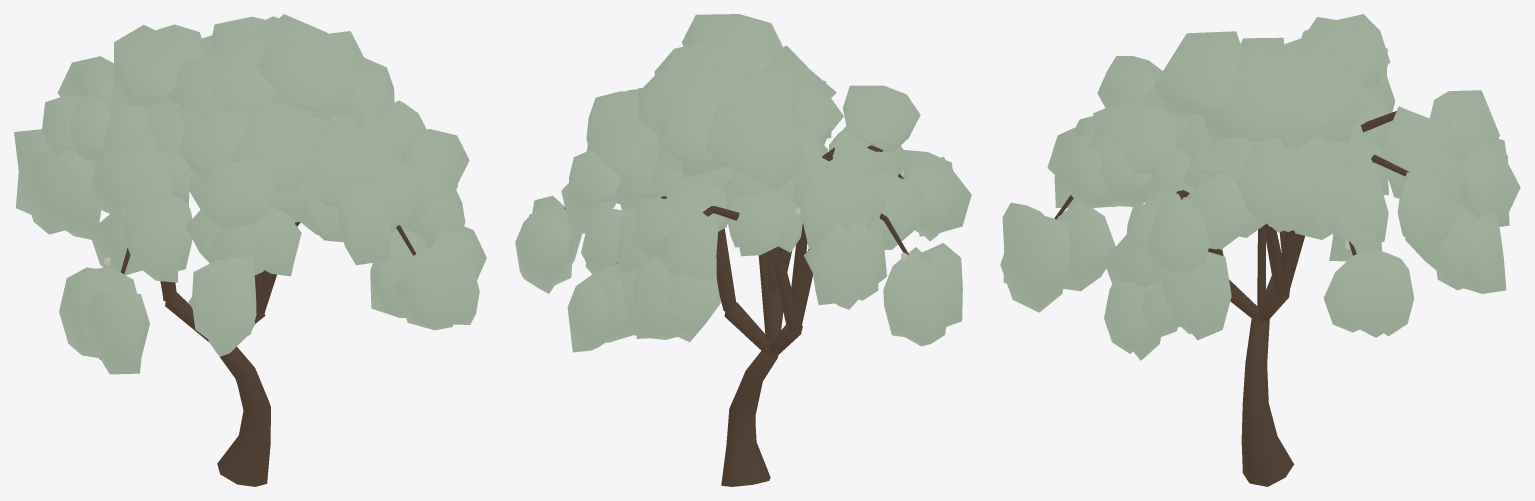
The model's file is Blender_RussianOlive_1.glb.
3 renders of one model, left to right at view 1: azimuth 30°, elevation 25°; view 2: azimuth 150°, elevation 25°; view 3: azimuth 270°, elevation 25°, orthographic. The views are drawn at different scales.
Visible parts, largest first — view 1: Blender_RussianOlive_1; view 2: Blender_RussianOlive_1; view 3: Blender_RussianOlive_1.
Boxes of the visible parts, x1,y1,x2,y2 form: Blender_RussianOlive_1: [14, 14, 486, 486]; Blender_RussianOlive_1: [515, 14, 971, 486]; Blender_RussianOlive_1: [1000, 14, 1520, 486].
Size of the model in its own units: 6.26 by 7.35 by 7.62.
